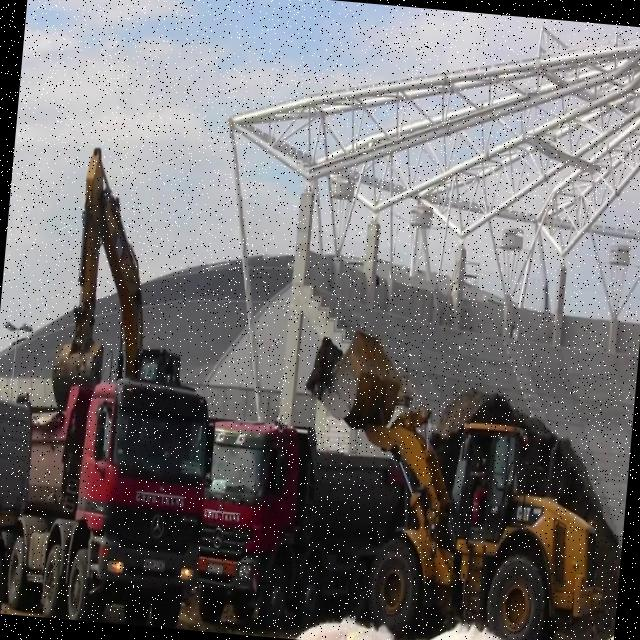Dump Truck: (0, 366, 213, 630), (188, 408, 410, 634), (0, 392, 36, 612)
Excavator: (42, 143, 204, 440)
Loader: (284, 325, 625, 640)
